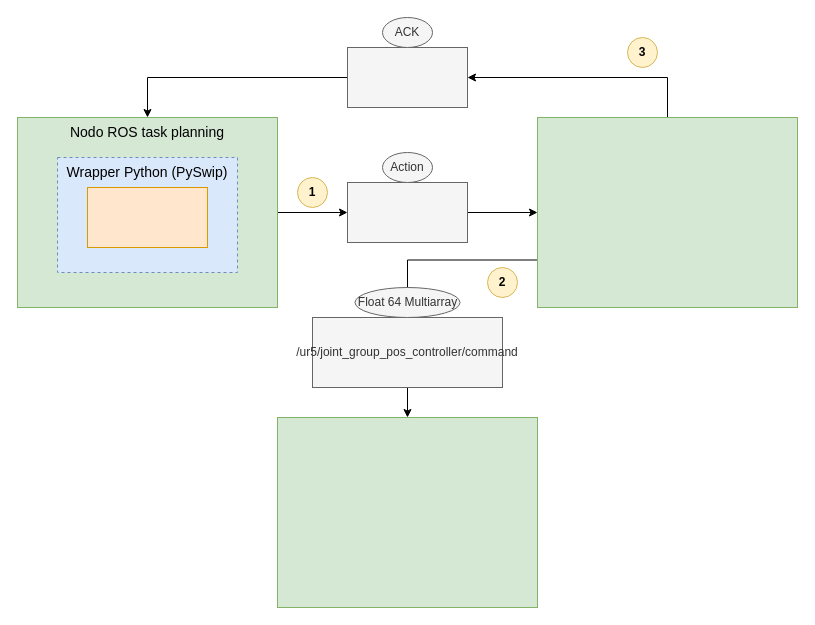
Some shapes in this 815 by 625 pixel diagram are drawn without their labels. Each missing label, with the centre of its shape:
"/prolog/ack" goes at point (407, 77).
"/prolog/action" goes at point (407, 212).
"Nodo ROS motion planning" goes at point (667, 212).
"Planner Prolog" goes at point (147, 217).
"UR5" goes at point (407, 512).
